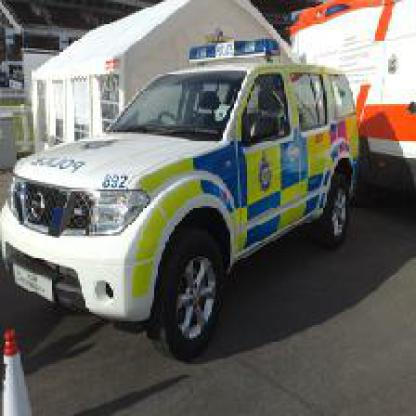emergency: (9, 35, 383, 355)
